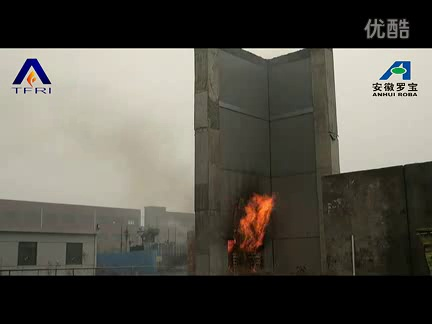fire: (222, 182, 280, 259)
